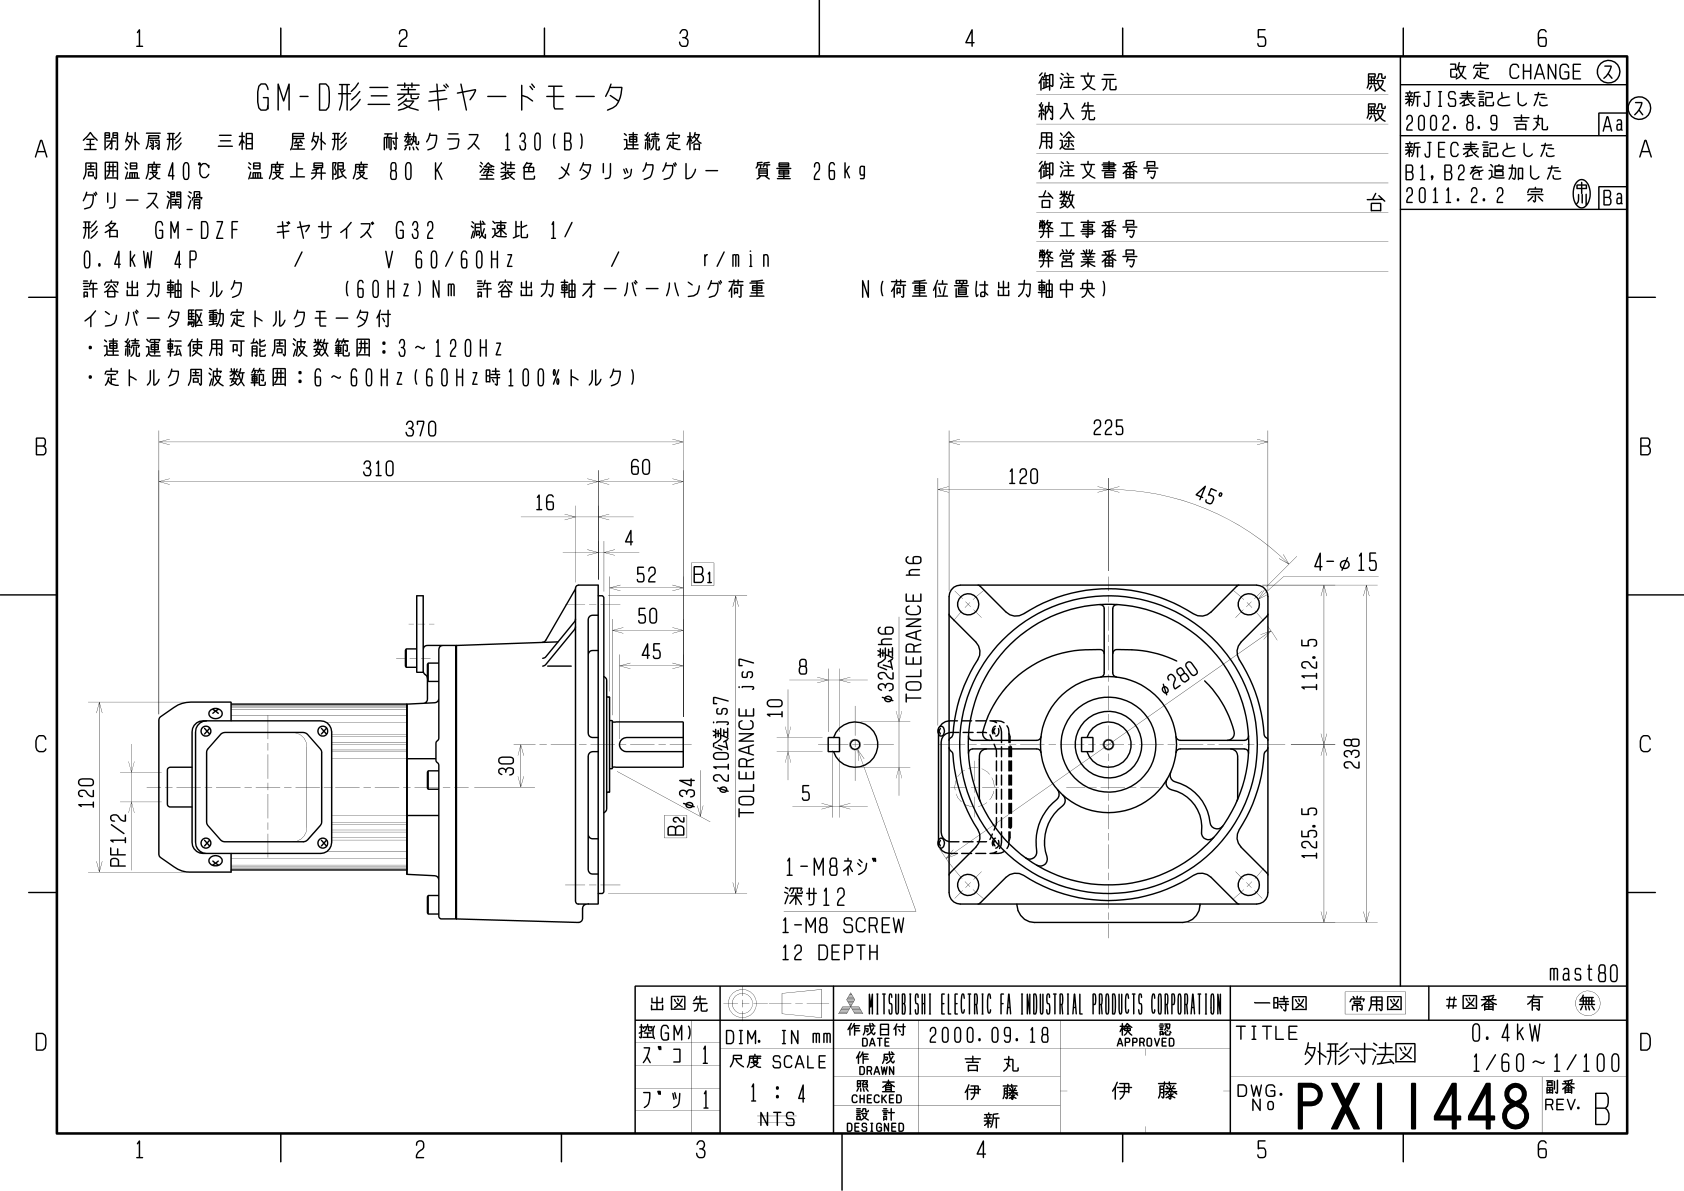GM_D_インバータ屋外_三相_フランジ: (5, 12, 1684, 1191)
